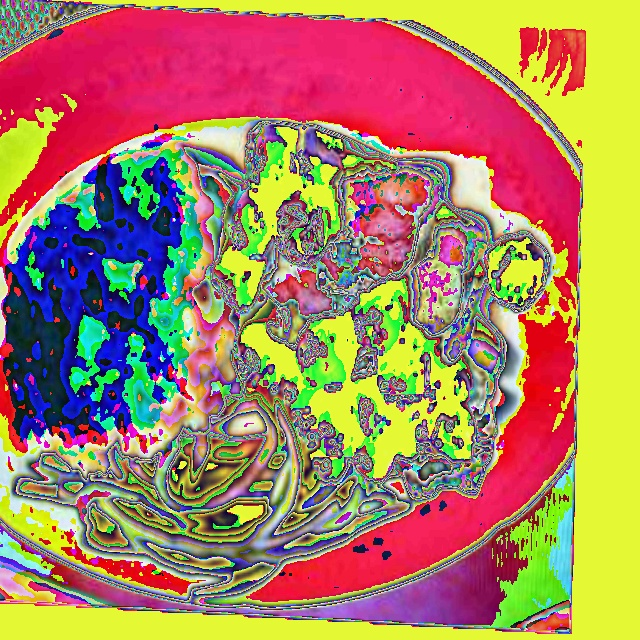background: (0, 120, 550, 602)
